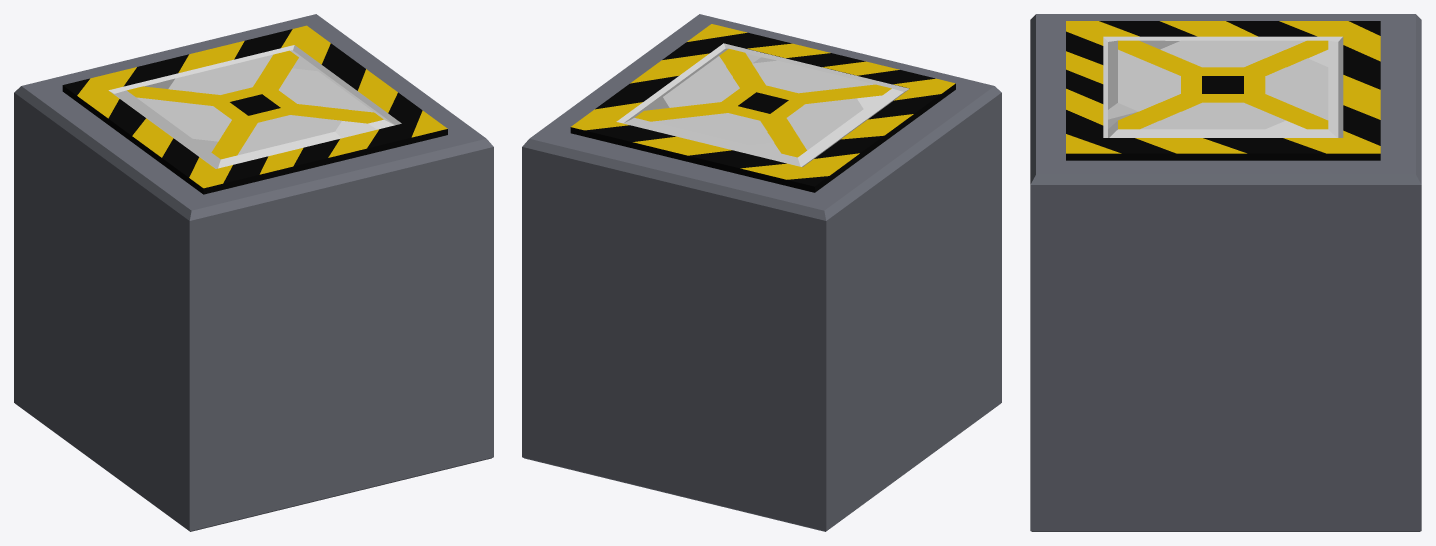
3 views of the same model, side by side, from view 1: azimuth 30°, elevation 25°; view 2: azimuth 150°, elevation 25°; view 3: azimuth 270°, elevation 25° (orthographic). The views are drawn at different scales.
Parts seen in each view (by area): view 1: 立方体.015, 立方体.004; view 2: 立方体.015, 立方体.004; view 3: 立方体.015, 立方体.004.
Boxes of the visible parts, <box> form: 立方体.015: <box>14,14,493,531</box>; 立方体.004: <box>62,25,447,194</box>; 立方体.015: <box>522,14,1001,531</box>; 立方体.004: <box>570,24,955,192</box>; 立方体.015: <box>1030,14,1421,531</box>; 立方体.004: <box>1066,21,1380,160</box>.
Size of the model in its own units: 200 by 200 by 206.
